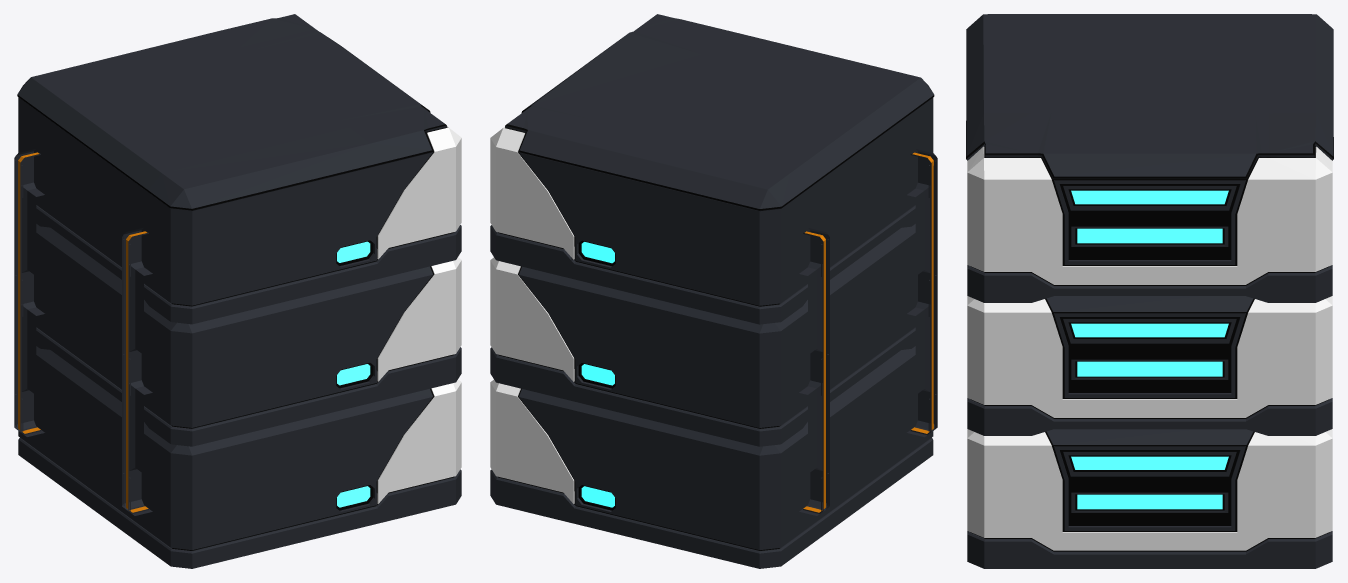
Rendered from SM_Data_Storage_Unit.fbx.
3 renders of one model, left to right at view 1: azimuth 30°, elevation 25°; view 2: azimuth 150°, elevation 25°; view 3: azimuth 270°, elevation 25°, orthographic. The views are drawn at different scales.
Parts seen in each view (by area): view 1: SM_Data_Storage_Unit; view 2: SM_Data_Storage_Unit; view 3: SM_Data_Storage_Unit.
Boxes of the visible parts, x1,y1,x2,y2 form: SM_Data_Storage_Unit: [14, 14, 461, 568]; SM_Data_Storage_Unit: [490, 14, 937, 568]; SM_Data_Storage_Unit: [966, 14, 1333, 568].
Bounding box in the file's own units: 16.81 × 19.2 × 15.69.
